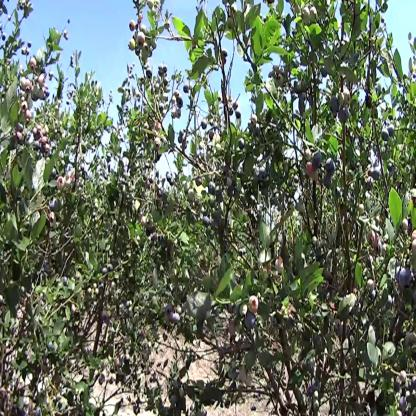intermediate: (28, 57, 46, 87), (366, 226, 383, 257), (20, 74, 33, 93), (304, 164, 316, 184), (250, 297, 259, 313)
mature: (396, 381, 415, 410), (325, 158, 336, 190), (399, 268, 413, 290), (366, 166, 380, 188), (380, 126, 396, 141), (329, 97, 338, 115), (246, 315, 256, 330), (340, 108, 349, 123), (49, 197, 59, 210), (314, 151, 322, 167)
young: (301, 7, 319, 24), (57, 176, 73, 191), (338, 89, 351, 105), (240, 301, 248, 317), (304, 147, 312, 161), (129, 40, 137, 54)
